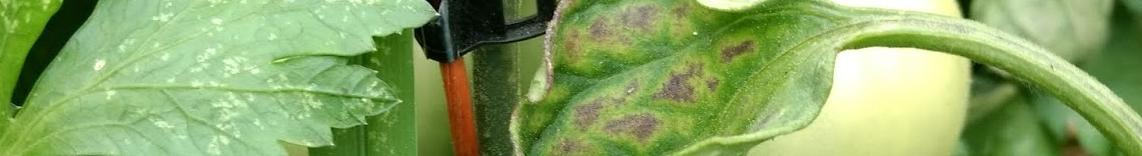Tomato leaf mosaic virus: (8, 0, 445, 156)
